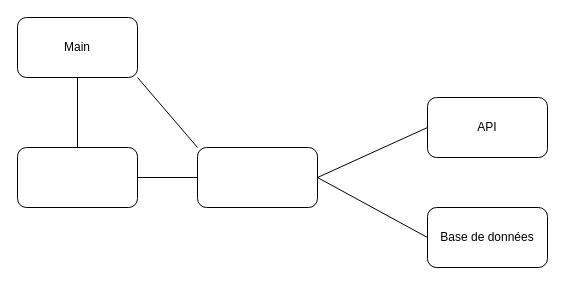
Image size: 565x285. Some labels were removed from this diagram. The shapes that lost their labels are listed below. From the top down, each one's box as (x1, y1, x2, y2) in pixels, then its label:
(16, 146, 138, 208): Prediction
(196, 146, 318, 208): Provider
